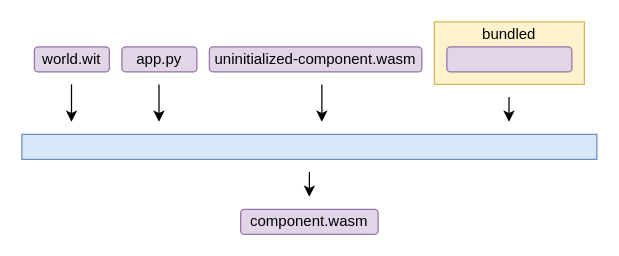
Some shapes in this 619 by 256 pixel diagram are drawn without their labels. Each missing label, with the box of its shape:
component-init: (21, 133, 597, 159)
python-sys-lib.tar: (446, 46, 572, 72)
